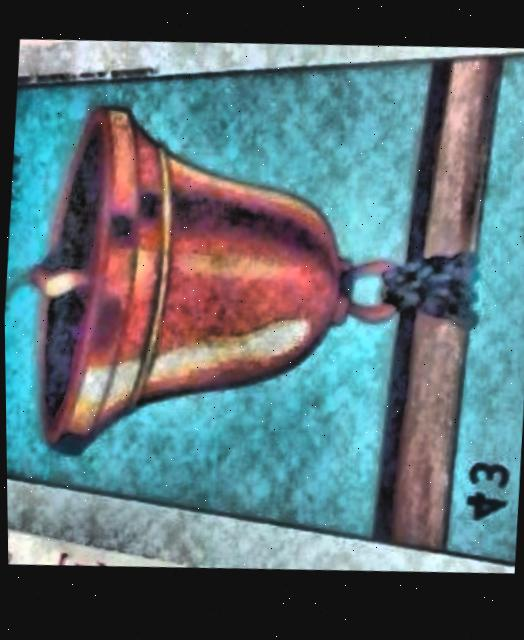La Campana: (4, 61, 524, 567)
